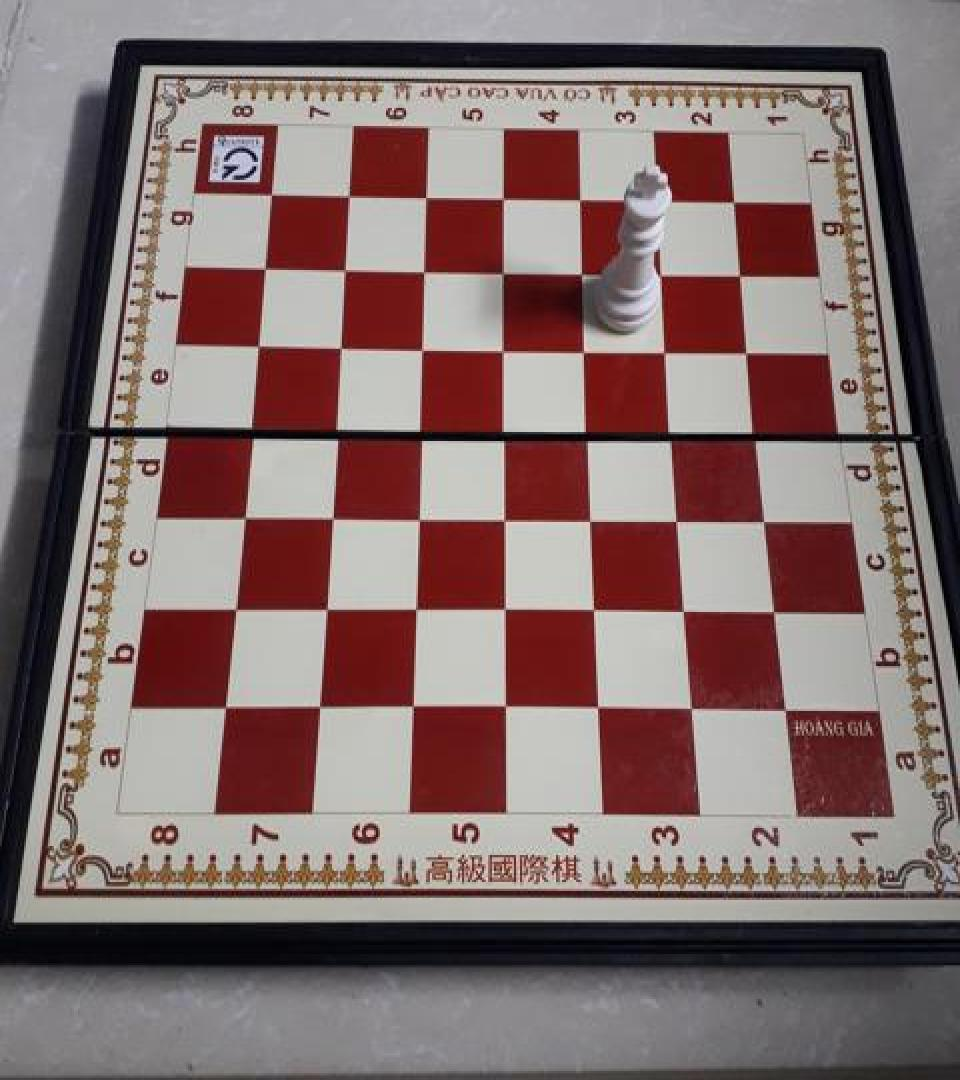xcorner: (490, 688, 522, 725), (584, 689, 616, 726), (490, 588, 522, 625), (208, 685, 240, 721), (303, 686, 335, 722), (396, 688, 428, 724), (677, 691, 709, 727), (770, 692, 802, 728), (218, 585, 250, 621), (309, 586, 341, 622), (399, 587, 431, 623), (580, 590, 612, 626), (670, 590, 702, 626), (760, 592, 792, 628), (227, 492, 259, 528), (315, 493, 347, 529), (402, 494, 434, 530), (490, 495, 522, 531), (577, 496, 609, 532), (664, 498, 696, 534), (751, 500, 783, 536), (235, 405, 267, 441), (320, 406, 352, 442), (405, 407, 437, 443), (490, 408, 522, 444), (574, 410, 606, 446), (658, 410, 690, 446), (742, 412, 774, 448), (243, 323, 275, 359), (325, 324, 357, 360), (407, 325, 439, 361), (489, 326, 521, 362), (571, 328, 603, 364), (653, 330, 685, 366), (734, 331, 766, 367), (251, 246, 283, 282), (330, 248, 362, 284), (410, 248, 442, 284), (489, 250, 521, 286), (568, 251, 600, 287), (648, 252, 680, 288), (727, 253, 759, 289), (258, 174, 290, 210), (335, 176, 367, 212), (412, 176, 444, 212), (489, 178, 521, 214), (566, 179, 598, 215), (643, 180, 675, 216), (719, 181, 751, 217)
